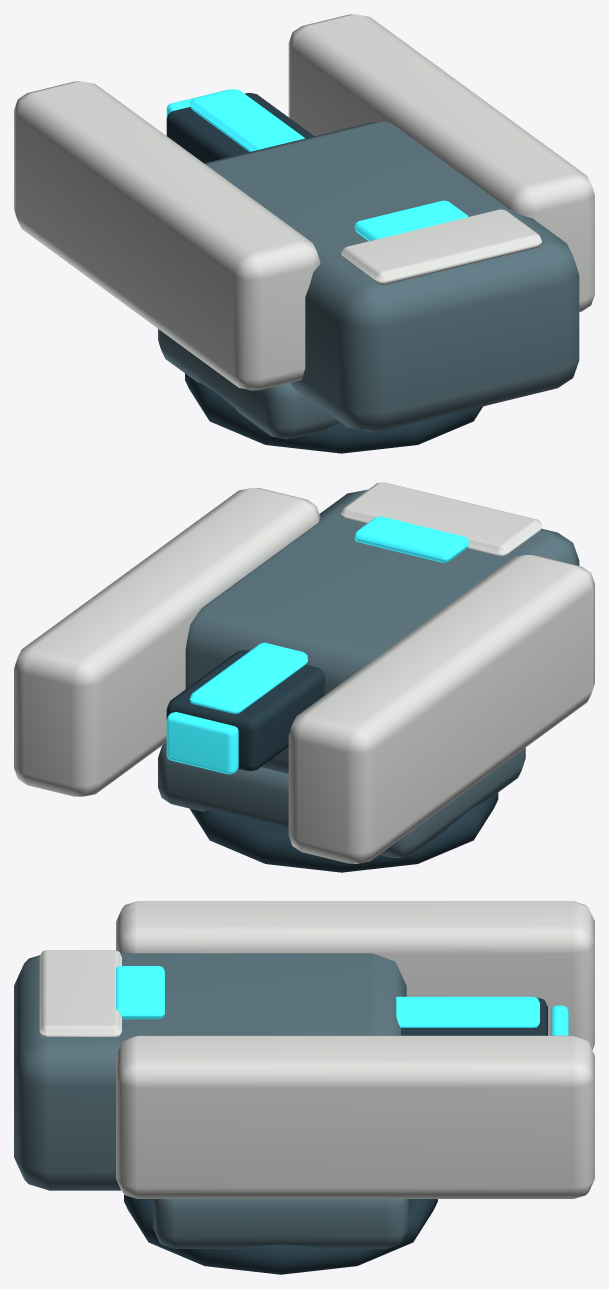
File: long_laser.glb
The picture shows the model from 3 angles, top to bottom: view 1: azimuth 30°, elevation 25°; view 2: azimuth 150°, elevation 25°; view 3: azimuth 270°, elevation 25°; orthographic projection.
Visible parts, largest first — view 1: WeaponArmor, RotationBearing; view 2: WeaponArmor, RotationBearing; view 3: WeaponArmor, RotationBearing.
Part boxes in pixels (x1,y1,x2,y2): WeaponArmor: [14, 14, 594, 438]; RotationBearing: [185, 373, 482, 453]; WeaponArmor: [14, 482, 594, 863]; RotationBearing: [190, 793, 498, 872]; WeaponArmor: [14, 901, 594, 1248]; RotationBearing: [124, 1194, 437, 1274].
Size of the model in its own units: 1.06 by 0.655 by 1.48.
